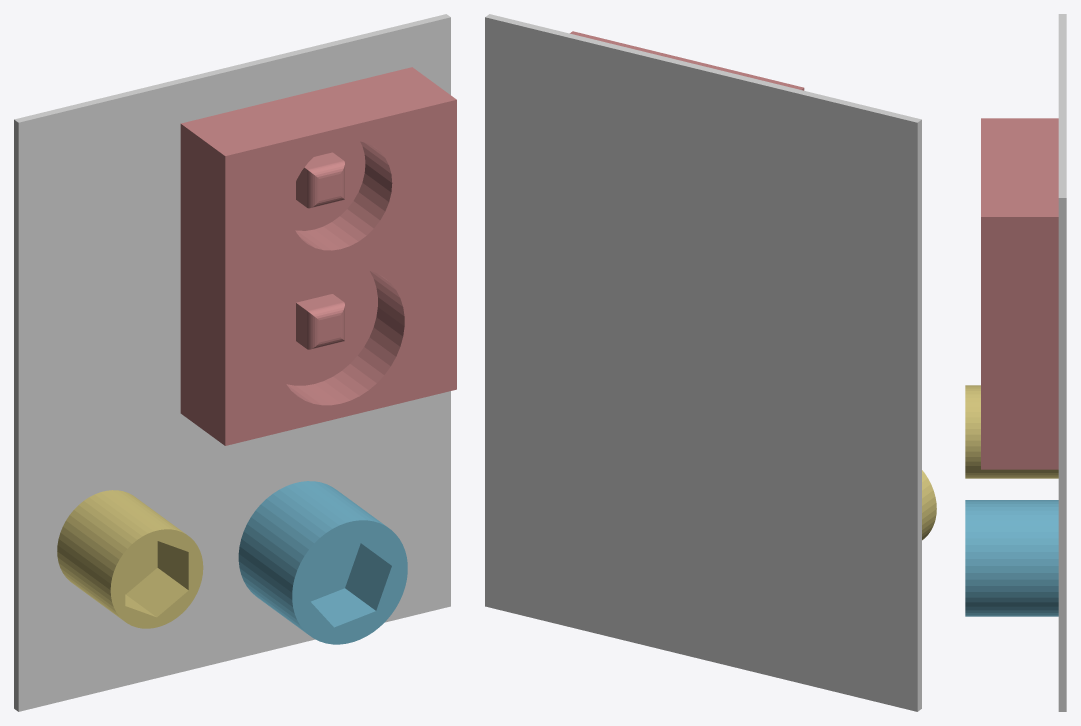
File: pickup_layout.glb
The picture shows the model from 3 angles, left to right: view 1: azimuth 30°, elevation 25°; view 2: azimuth 150°, elevation 25°; view 3: azimuth 270°, elevation 25°; orthographic projection. The views are drawn at different scales.
Visible parts, largest first — view 1: world, 0.obj, 2.obj, 1.obj; view 2: world, 0.obj, 1.obj; view 3: 0.obj, 2.obj, world, 1.obj.
Part boxes in pixels (left/top/right/bottom): world: left=14, top=14, right=450, bottom=711; 0.obj: left=180, top=67, right=456, bottom=445; 2.obj: left=238, top=481, right=407, bottom=644; 1.obj: left=57, top=490, right=203, bottom=628; world: left=485, top=14, right=921, bottom=711; 0.obj: left=570, top=31, right=804, bottom=90; 1.obj: left=922, top=470, right=936, bottom=540; 0.obj: left=981, top=118, right=1058, bottom=469; 2.obj: left=965, top=500, right=1058, bottom=616; world: left=1058, top=14, right=1066, bottom=711; 1.obj: left=965, top=385, right=1058, bottom=478.
Bounding box in the file's own units: 11.2 × 14.58 × 2.6.
